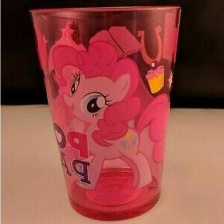glass: (23, 2, 185, 223)
